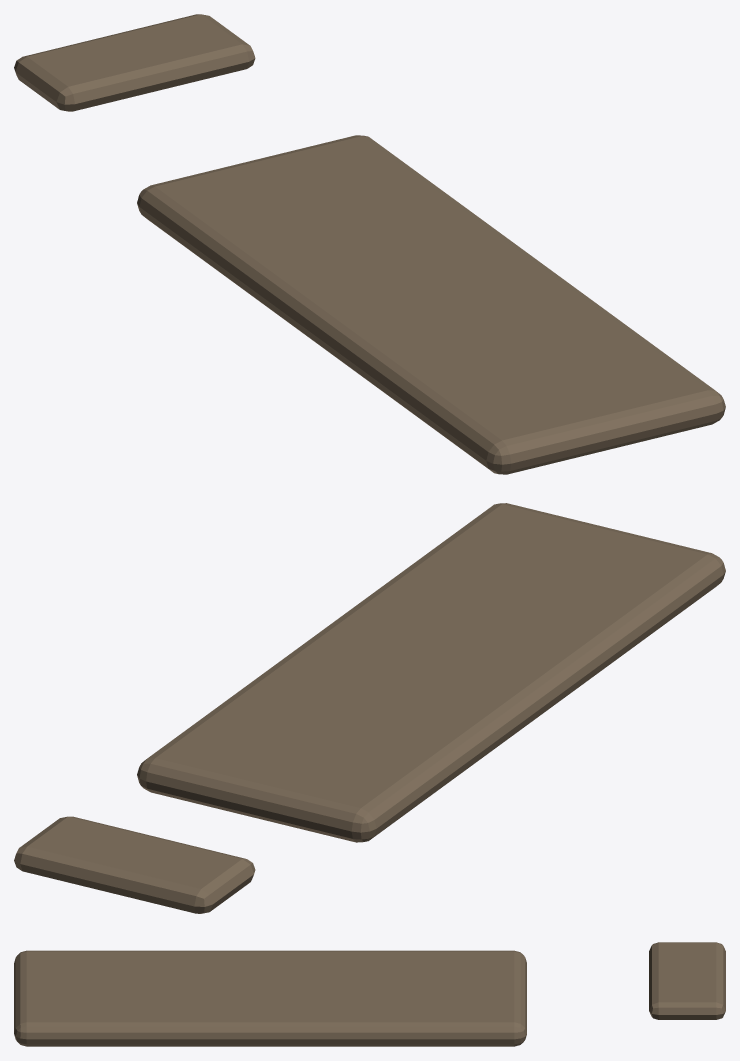
Rendered from sleeping_bag.glb.
The picture shows the model from 3 angles, top to bottom: view 1: azimuth 30°, elevation 25°; view 2: azimuth 150°, elevation 25°; view 3: azimuth 270°, elevation 25°; orthographic projection. The views are drawn at different scales.
Visible parts, largest first — view 1: sleeping_bag; view 2: sleeping_bag; view 3: sleeping_bag.
Boxes of the visible parts, x1,y1,x2,y2 form: sleeping_bag: (14, 14, 725, 474); sleeping_bag: (14, 503, 725, 913); sleeping_bag: (14, 942, 725, 1046).
Bounding box in the file's own units: 0.3 × 0.065 × 1.11.
